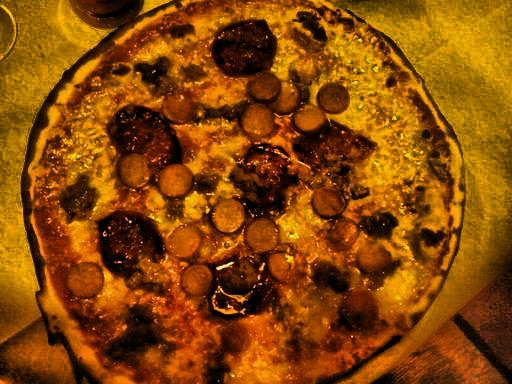pizza: (14, 4, 474, 384)
